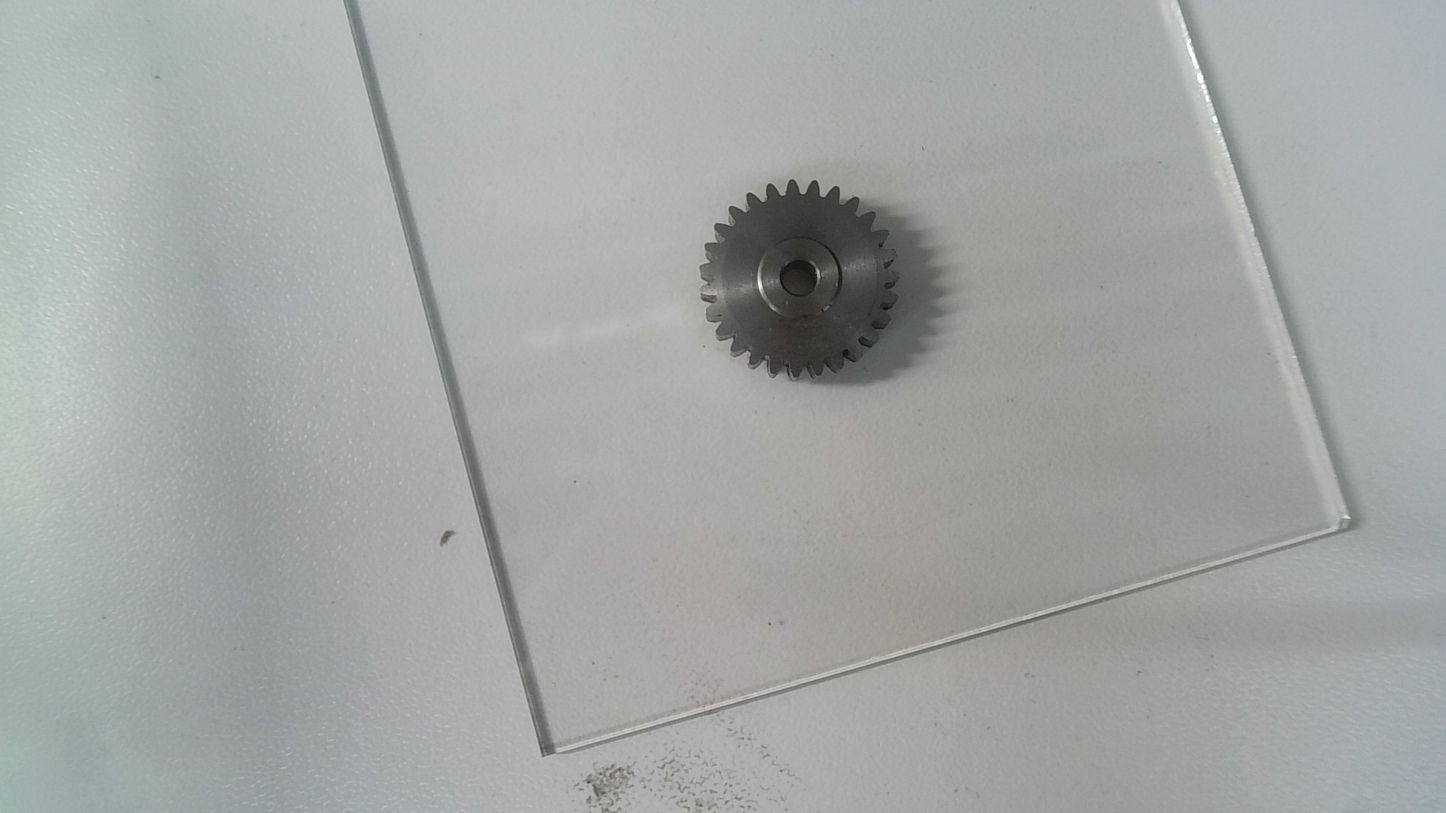gear: (696, 176, 902, 387)
